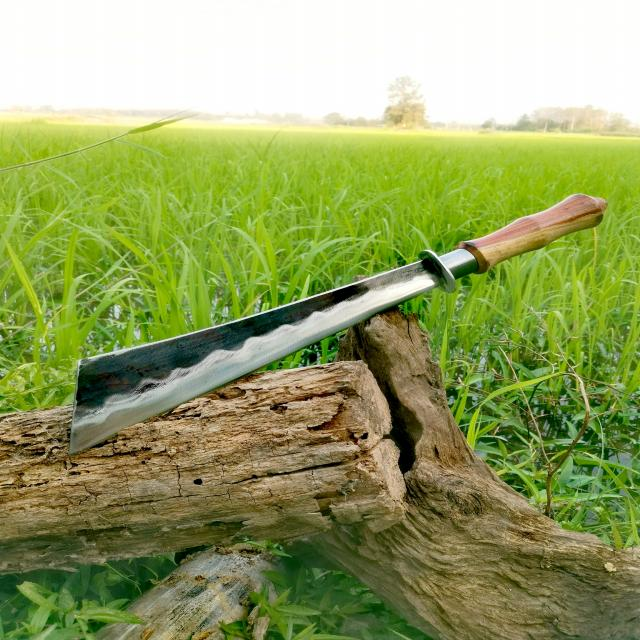eto: (62, 189, 610, 466)
